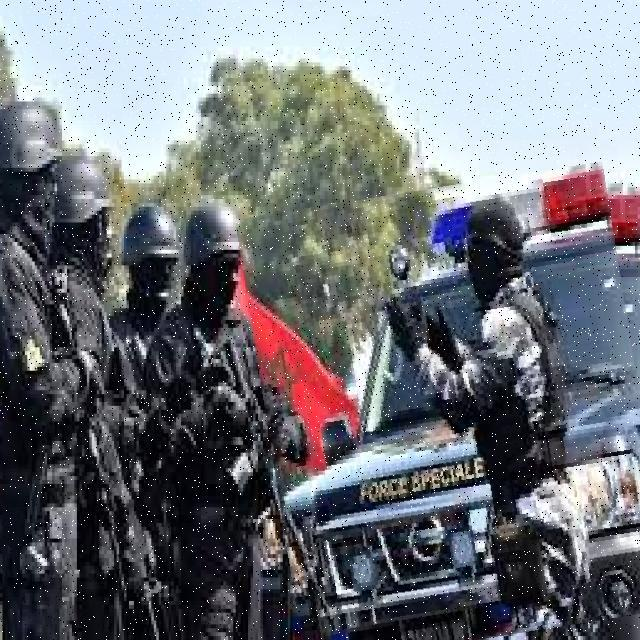police: (251, 174, 640, 640)
